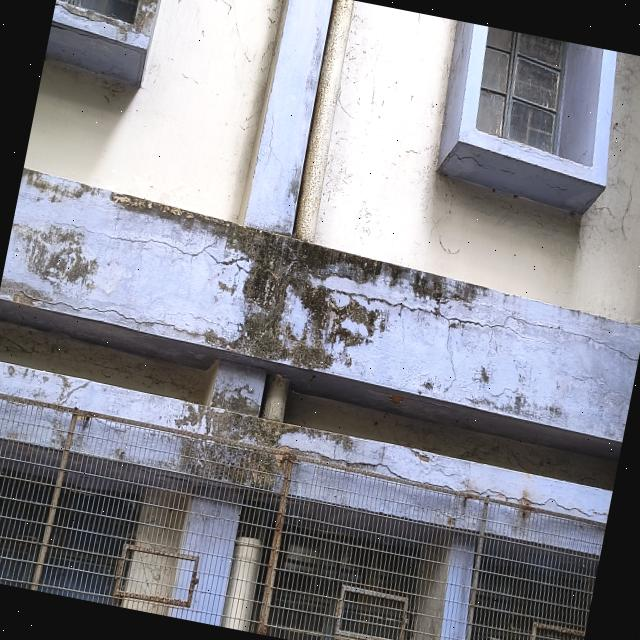Corrosion: (0, 394, 606, 640), (113, 544, 200, 607), (378, 593, 408, 640), (531, 622, 584, 640), (334, 586, 347, 635), (350, 633, 387, 640)
Crack: (307, 279, 637, 363), (50, 216, 265, 278), (8, 289, 208, 344), (277, 444, 455, 491), (51, 21, 147, 87), (475, 130, 596, 174), (55, 1, 152, 43), (259, 101, 299, 180), (460, 477, 546, 507), (439, 151, 490, 172), (544, 498, 595, 518), (443, 350, 457, 399), (487, 386, 514, 400), (435, 469, 471, 478), (544, 183, 569, 192), (588, 508, 608, 517), (432, 463, 456, 470), (498, 167, 516, 175)
Moss growth due to damping: (21, 168, 476, 370), (175, 364, 352, 490), (12, 224, 99, 292), (56, 0, 158, 33)
Scaling: (406, 448, 446, 464)
